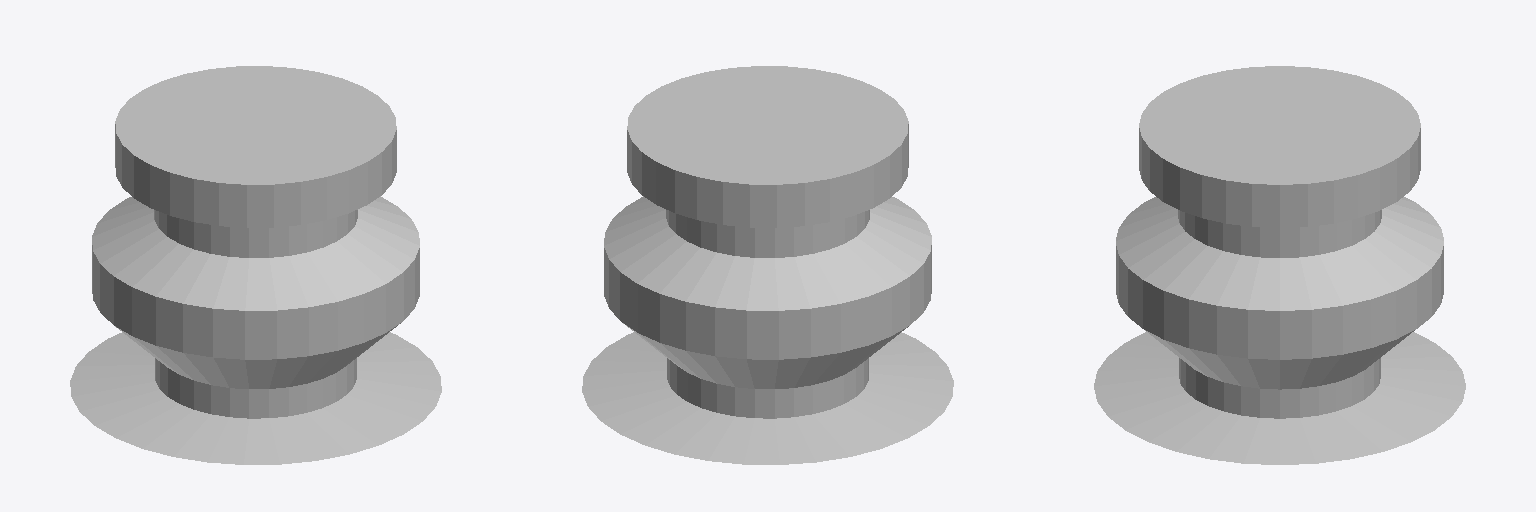
The model's file is 2BulgeVase.obj.
3 renders of one model, left to right at view 1: azimuth 30°, elevation 25°; view 2: azimuth 150°, elevation 25°; view 3: azimuth 270°, elevation 25°, orthographic.
Visible parts, largest first — view 1: Cylinder; view 2: Cylinder; view 3: Cylinder.
Part boxes in pixels (x1,y1,x2,y2): Cylinder: (70, 66, 441, 464); Cylinder: (582, 66, 953, 464); Cylinder: (1094, 66, 1465, 464).
Bounding box in the file's own units: 3.68 × 2.84 × 3.68.